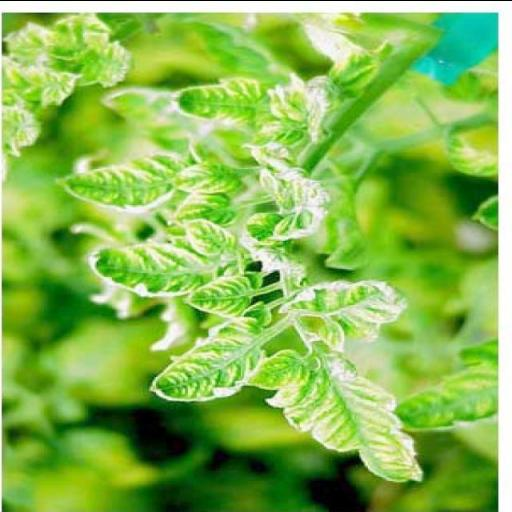disease_tomato: (242, 346, 422, 484), (140, 314, 272, 406), (80, 226, 238, 298), (388, 336, 499, 436), (47, 146, 191, 214), (278, 280, 416, 348), (162, 74, 276, 130)
